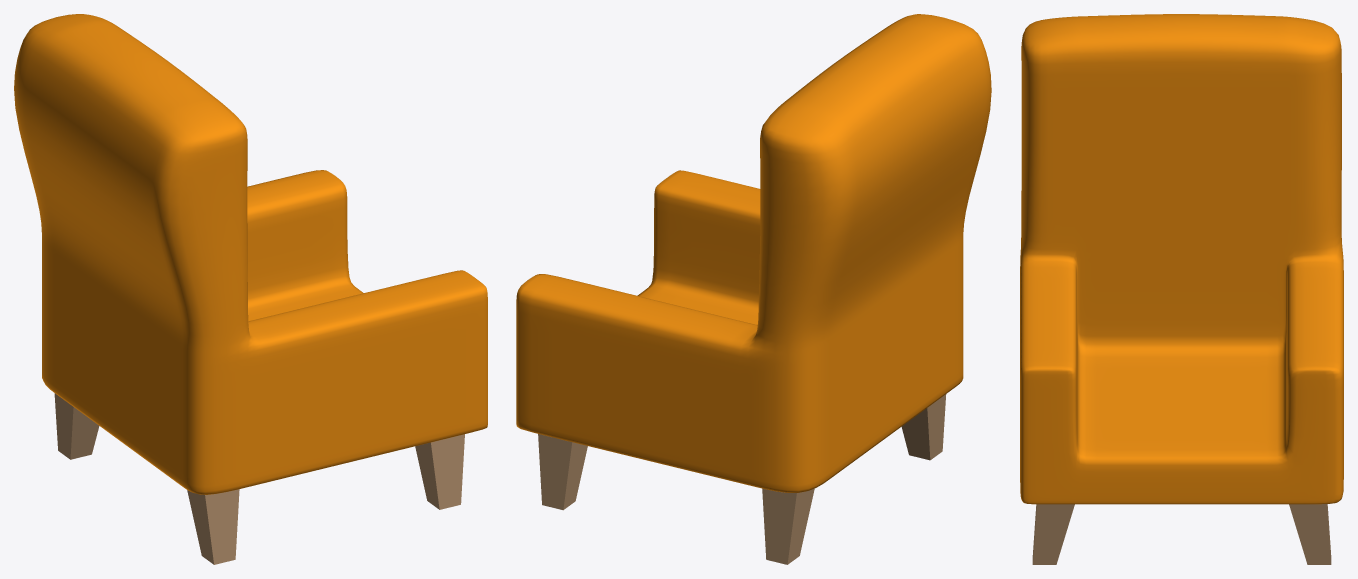
The model's file is chair.gltf.
3 renders of one model, left to right at view 1: azimuth 30°, elevation 25°; view 2: azimuth 150°, elevation 25°; view 3: azimuth 270°, elevation 25°, orthographic. The views are drawn at different scales.
Parts seen in each view (by area): view 1: Cube.003; view 2: Cube.003; view 3: Cube.003.
Boxes of the visible parts, x1=… form: Cube.003: x1=14, y1=14, x2=487, y2=564; Cube.003: x1=516, y1=14, x2=991, y2=564; Cube.003: x1=1020, y1=14, x2=1343, y2=564.
Size of the model in its own units: 1.34 by 1.78 by 1.22.
